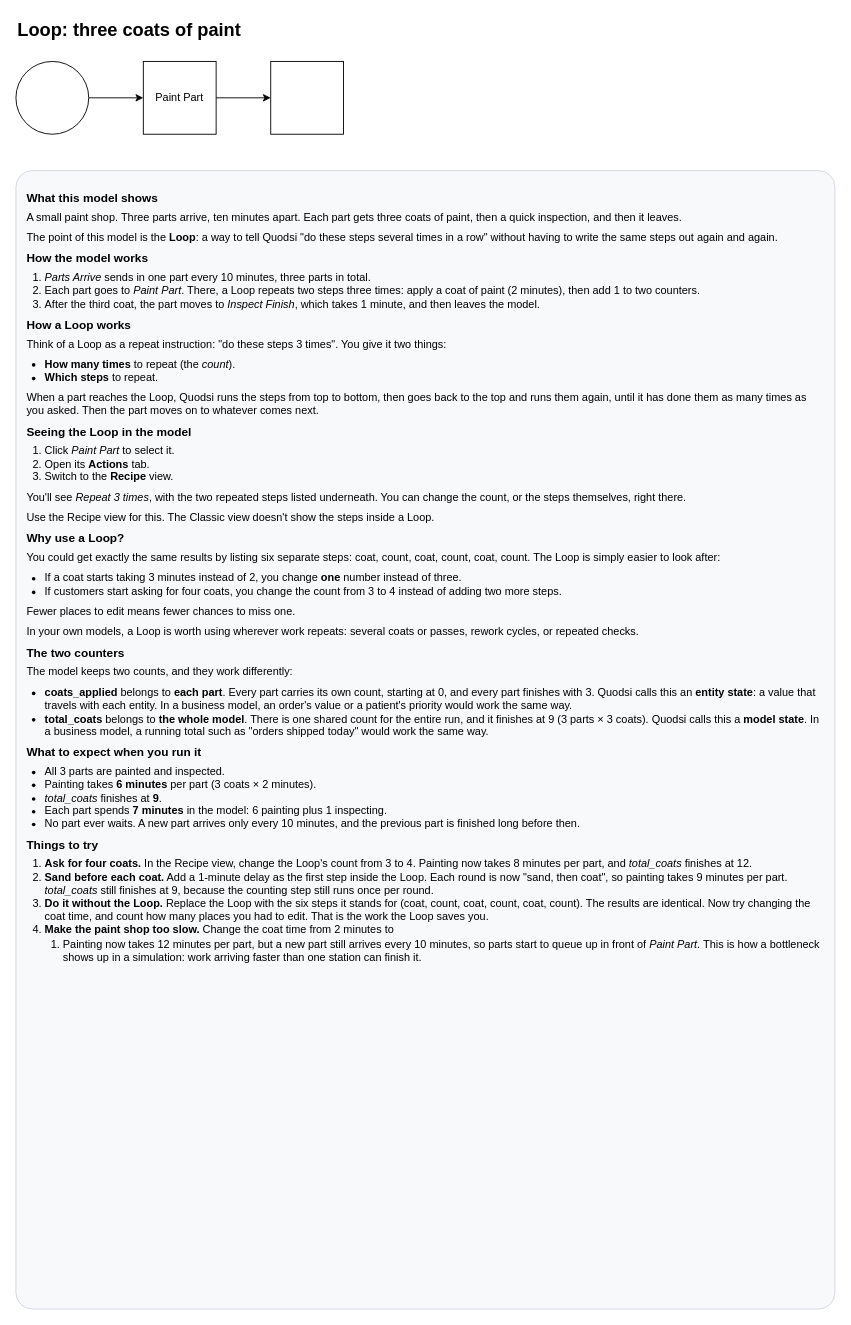
This 851x1325 diagram has some shape labels left out. Here are the shapes that lost their labels. From the top down, the centre of each, then its label:
At (52,97): "Parts Arrive".
At (307,97): "Inspect Finish".
